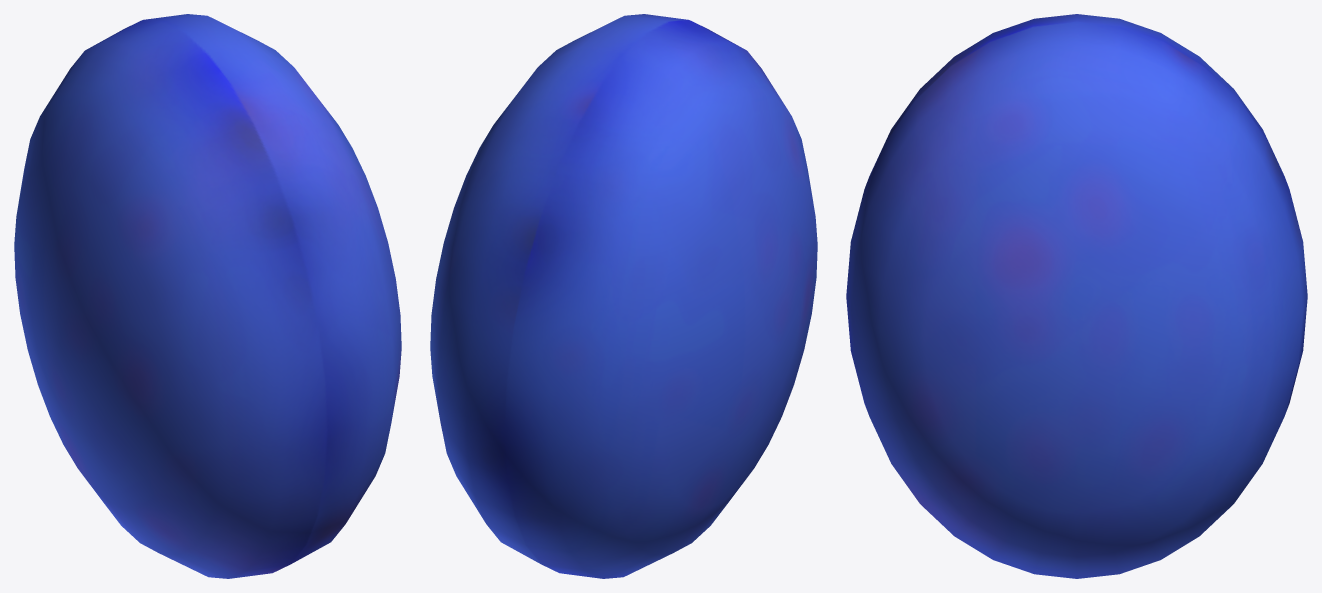
Rendered from SM_Gem_F_Silver.fbx.
The picture shows the model from 3 angles, left to right: view 1: azimuth 30°, elevation 25°; view 2: azimuth 150°, elevation 25°; view 3: azimuth 270°, elevation 25°; orthographic projection.
Visible parts, largest first — view 1: SM_Gem_F_Silver_LOD0; view 2: SM_Gem_F_Silver_LOD0; view 3: SM_Gem_F_Silver_LOD0.
Boxes of the visible parts, x1,y1,x2,y2 form: SM_Gem_F_Silver_LOD0: [14, 14, 401, 578]; SM_Gem_F_Silver_LOD0: [430, 14, 817, 578]; SM_Gem_F_Silver_LOD0: [846, 14, 1307, 578].
Size of the model in its own units: 2.21 by 3.05 by 3.85.
1 material, 1 textured.
